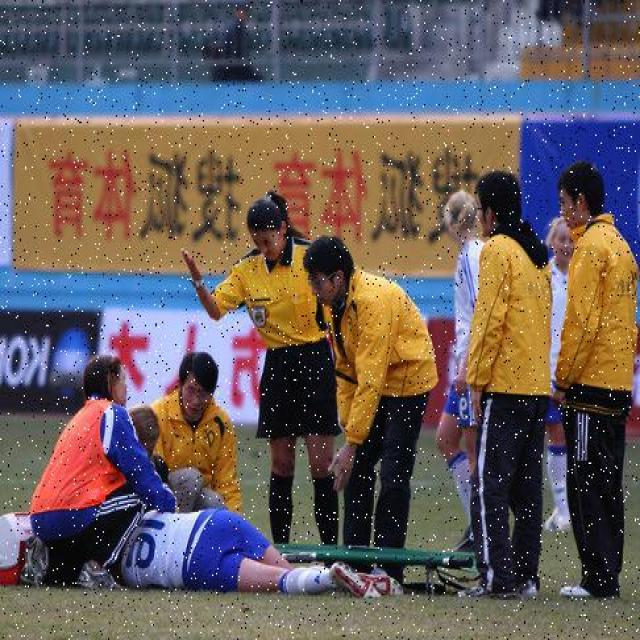fall: (116, 504, 408, 602)
